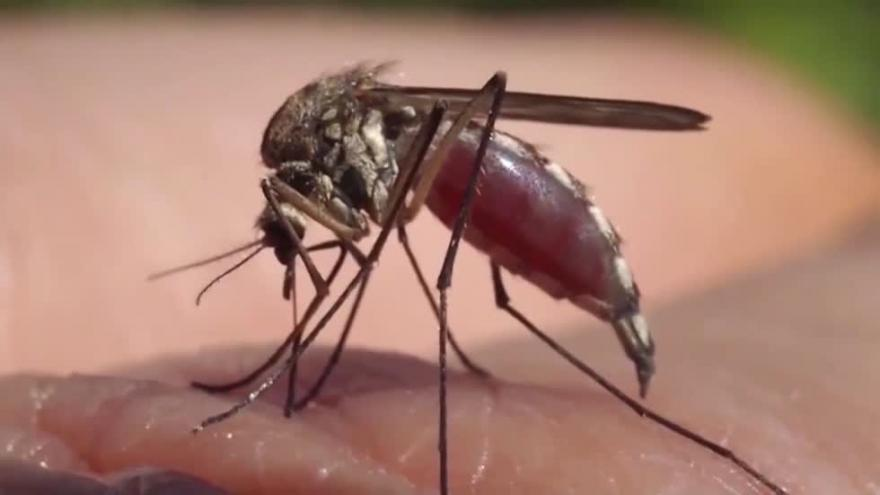dengue_mosquito: (163, 59, 716, 446)
